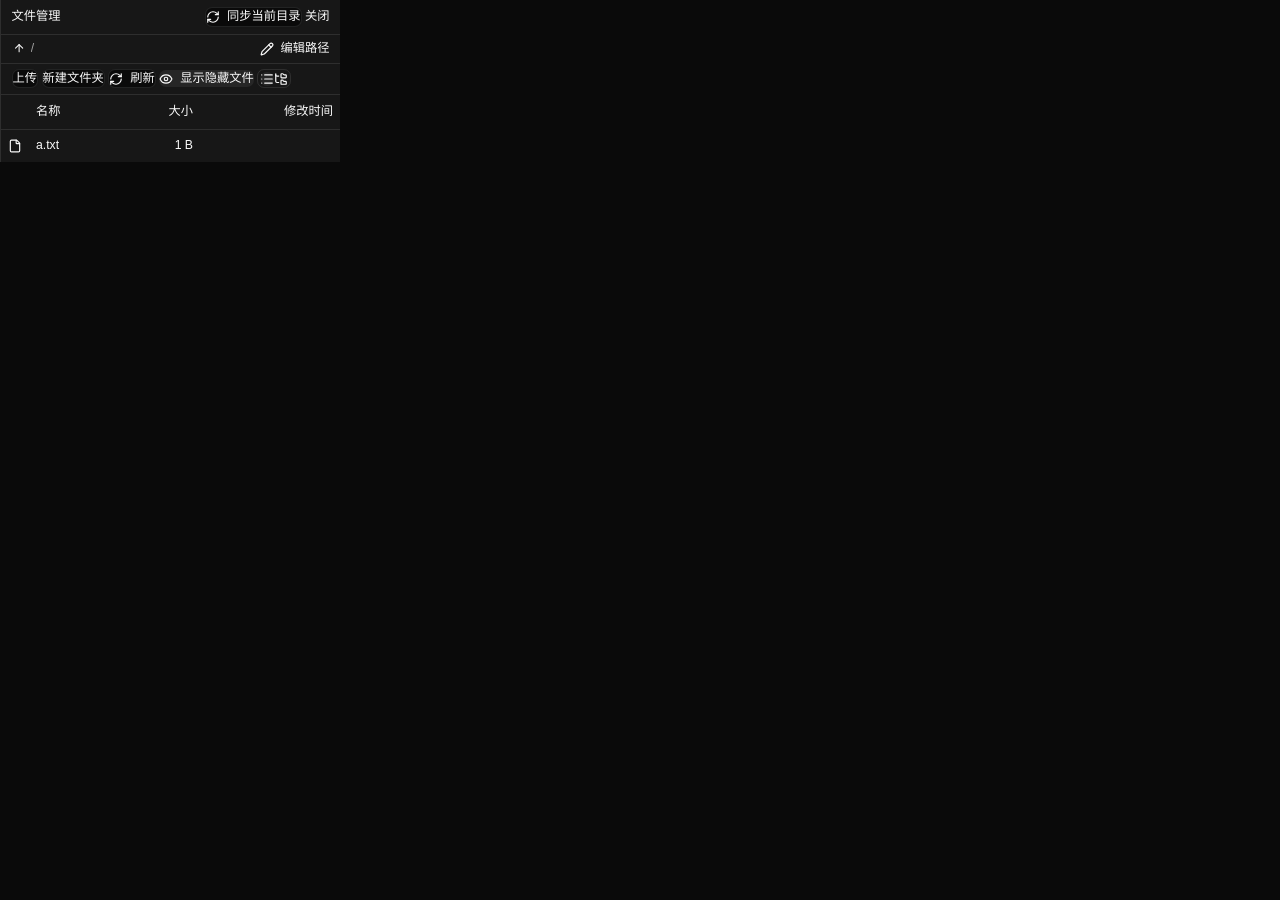
it: FilePanel SFTP views › keeps delete confirm open and shows inline failure without toast
Step 1. Right-click the button "a.txt" → (48, 146), box [36,137,59,154]
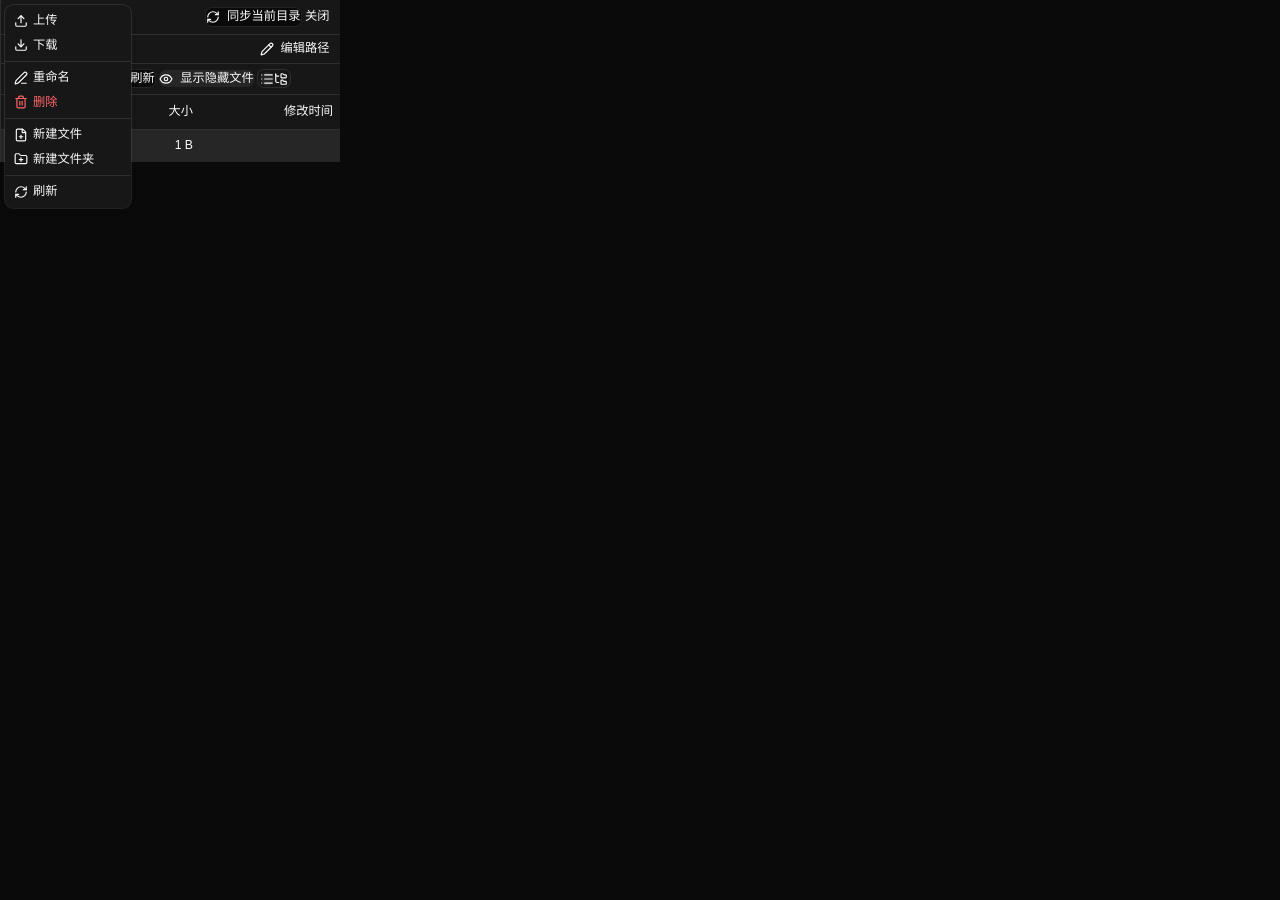
Step 2. Click the menu item "删除" → (36, 102), box [14,94,58,109]
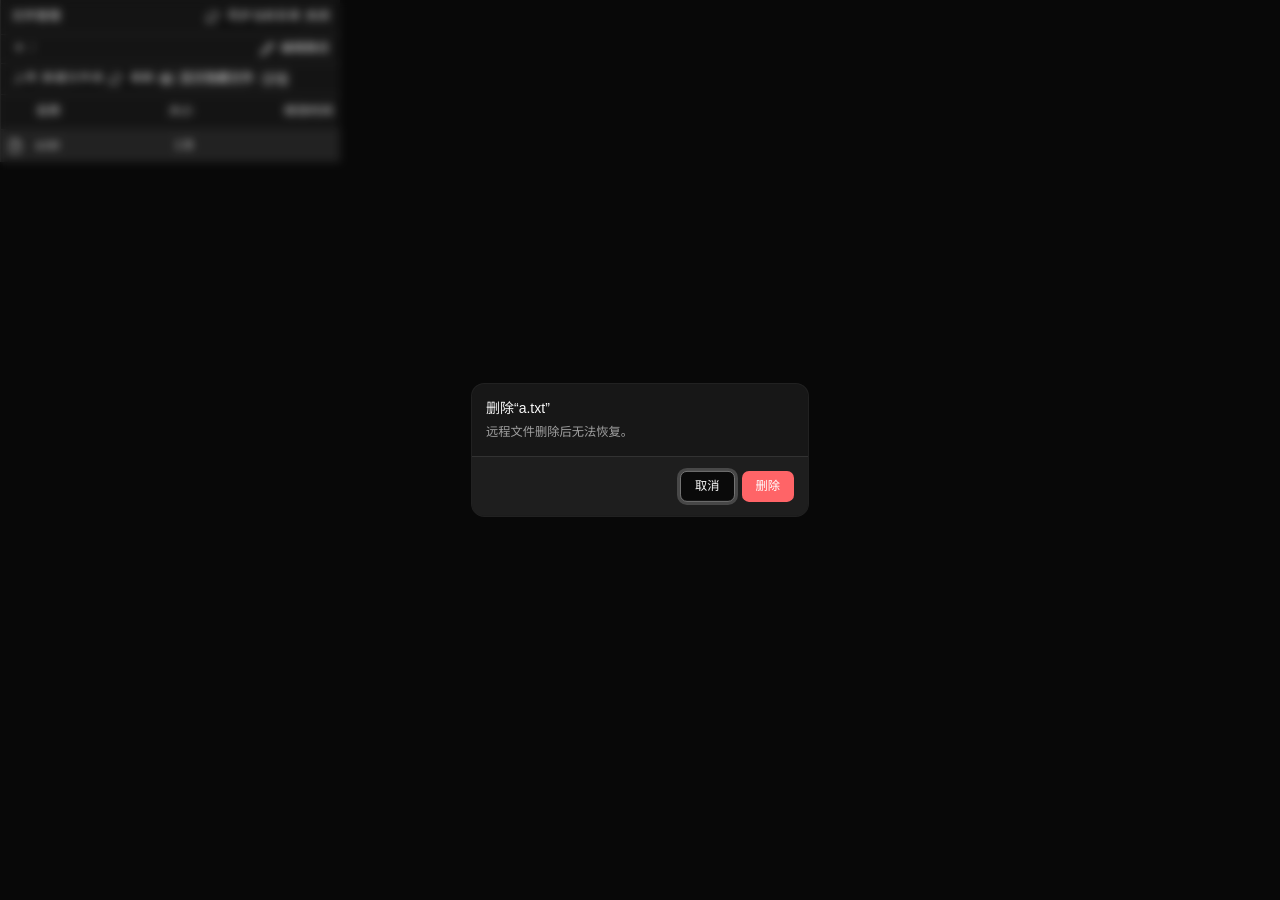
Step 3. Click the button "删除" → (768, 486), box [742,471,794,502]
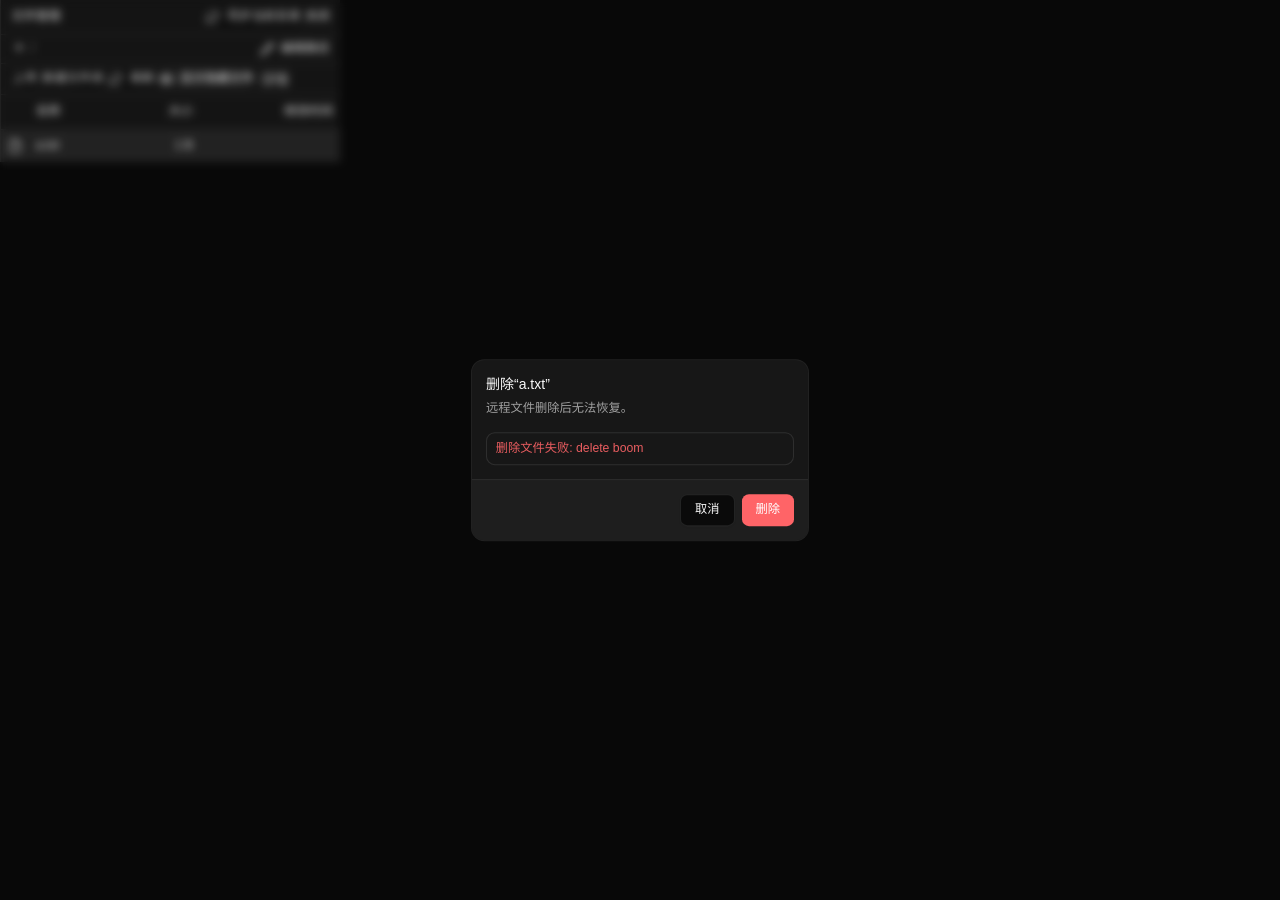
Result: the dialog is shown at [472,360,808,540]
Result: the text "删除文件失败: delete boom" is shown at [496,441,644,455]
